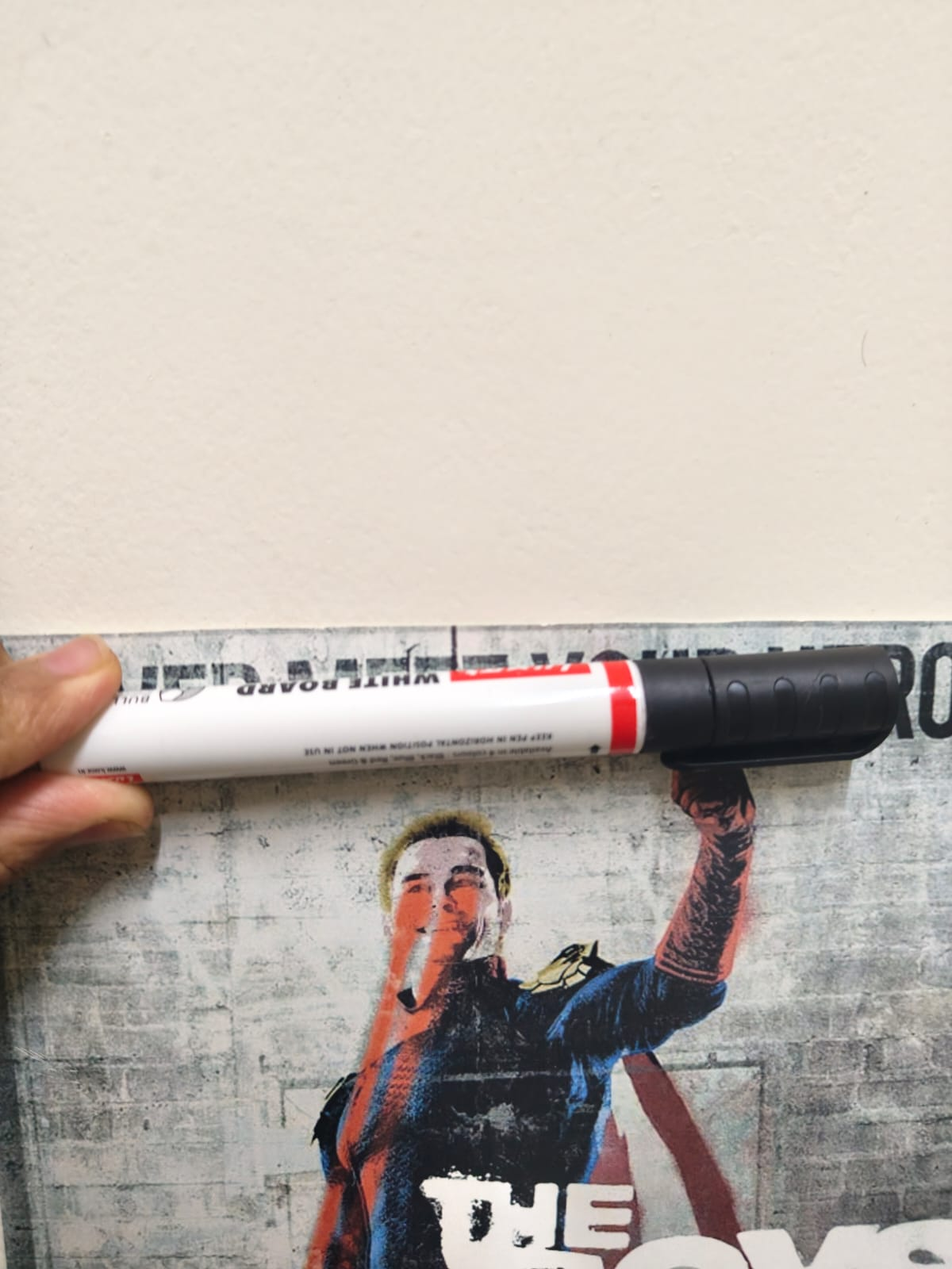case: (46, 671, 920, 767)
